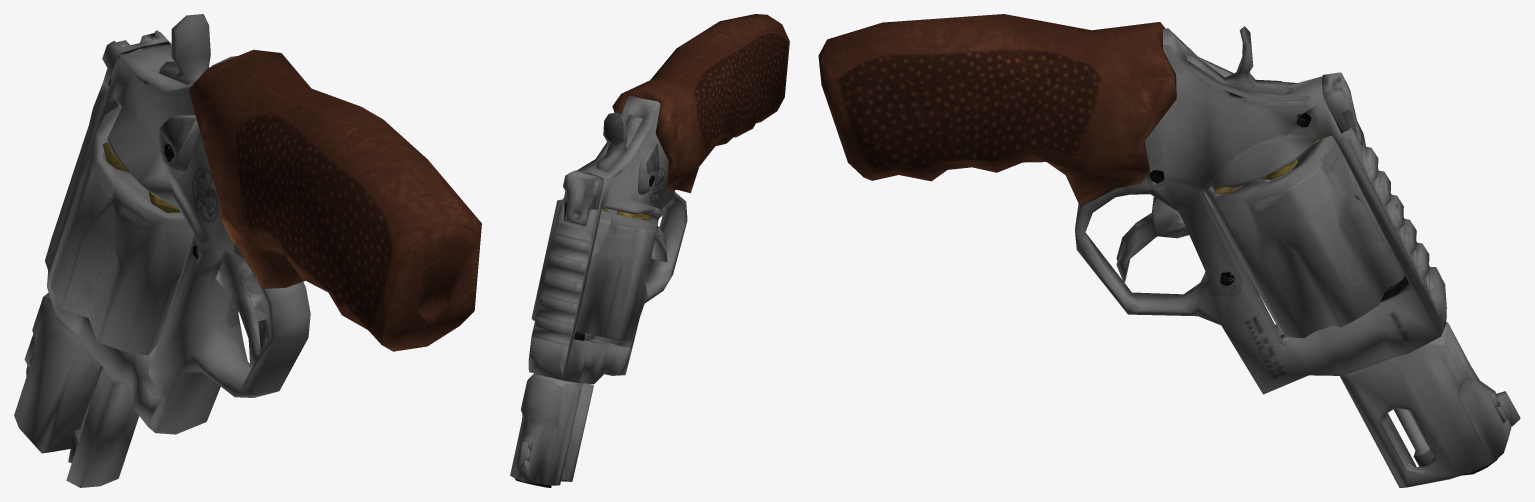
Rendered from Revolver_ShortMelee.fbx.
The picture shows the model from 3 angles, left to right: view 1: azimuth 30°, elevation 25°; view 2: azimuth 150°, elevation 25°; view 3: azimuth 270°, elevation 25°; orthographic projection. The views are drawn at different scales.
Parts seen in each view (by area): view 1: Revolver_Short.001; view 2: Revolver_Short.001; view 3: Revolver_Short.001.
Part boxes in pixels (x1,y1,x2,y2): Revolver_Short.001: [14, 14, 481, 487]; Revolver_Short.001: [510, 14, 789, 487]; Revolver_Short.001: [818, 14, 1520, 487].
Size of the model in its own units: 0.0318 by 0.1108 by 0.1528.
